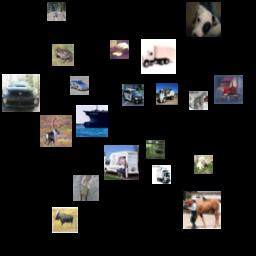automobile: (2, 74, 40, 112), (122, 84, 144, 106), (70, 76, 89, 95)
bird: (146, 140, 165, 159)
cat: (189, 91, 208, 110)
deer: (40, 115, 72, 147), (52, 207, 78, 233), (73, 175, 99, 201), (47, 2, 66, 21)
dog: (186, 2, 221, 37), (110, 40, 129, 59), (194, 155, 213, 174)
frog: (52, 44, 74, 66)
ship: (76, 105, 108, 137)
truck: (141, 39, 176, 74), (104, 145, 139, 180), (214, 75, 243, 104), (156, 83, 178, 105), (152, 165, 171, 184)
